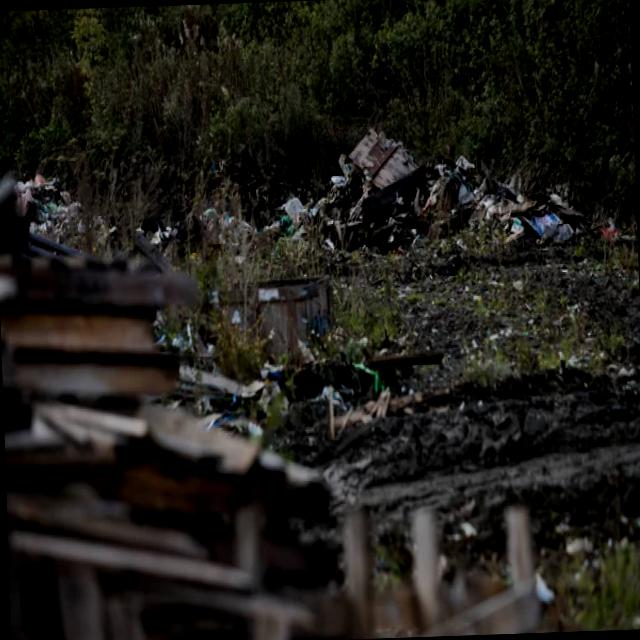garbage: (5, 138, 521, 637)
